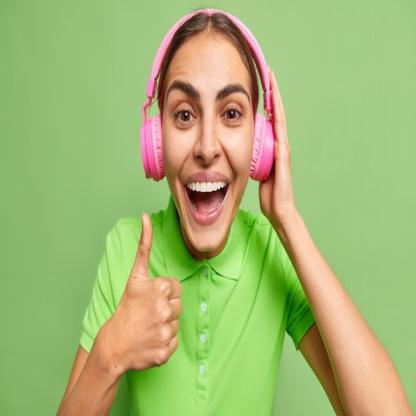thumb_up: (108, 209, 184, 372)
